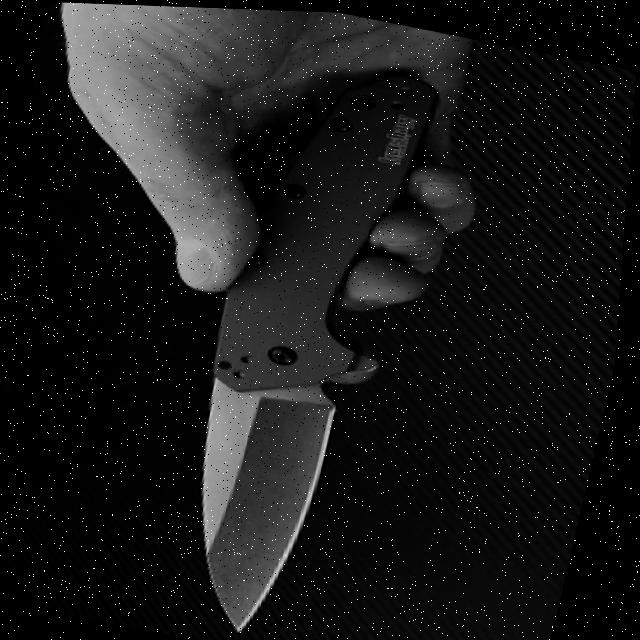knife: (153, 18, 462, 640)
